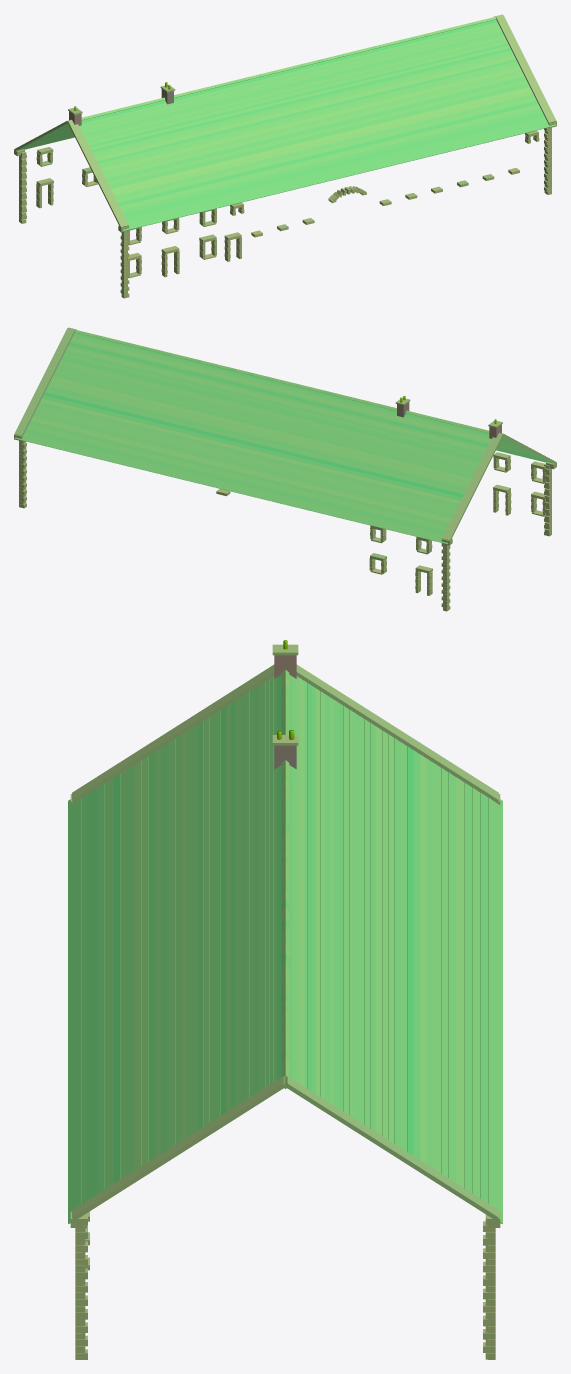
Rendered from SM_Bld_167_Stone.glb.
3 views of the same model, one above another, from view 1: azimuth 30°, elevation 25°; view 2: azimuth 150°, elevation 25°; view 3: azimuth 270°, elevation 25° (orthographic). The views are drawn at different scales.
Parts seen in each view (by area): view 1: SM_Bld_167_Stone; view 2: SM_Bld_167_Stone; view 3: SM_Bld_167_Stone.
Boxes of the visible parts, bbox=[...] form: SM_Bld_167_Stone: bbox=[14, 14, 556, 298]; SM_Bld_167_Stone: bbox=[14, 327, 556, 611]; SM_Bld_167_Stone: bbox=[68, 640, 502, 1359].
Size of the model in its own units: 40.68 by 13.62 by 17.58.
